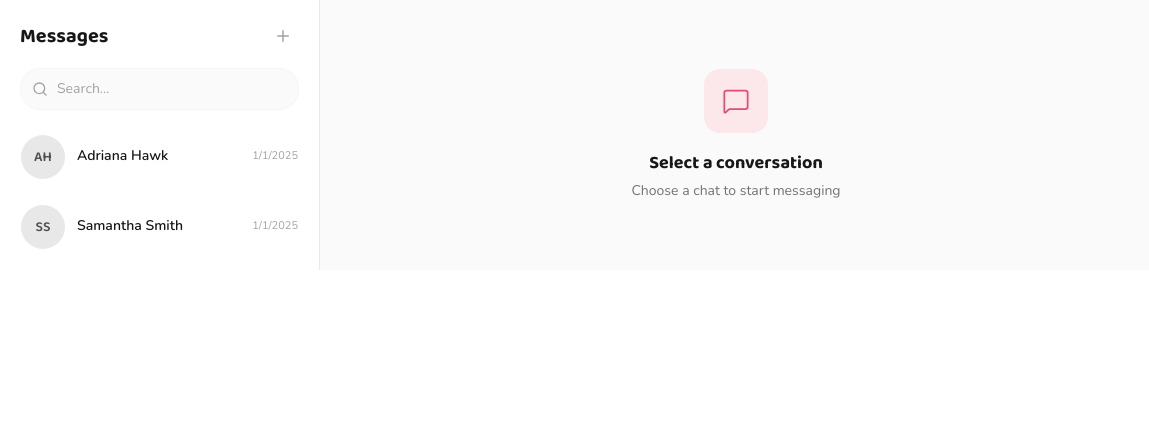
it: Chat › selects a conversation and shows details panel
Click the text "Adriana Hawk" at (123,156), box [77, 146, 168, 166]
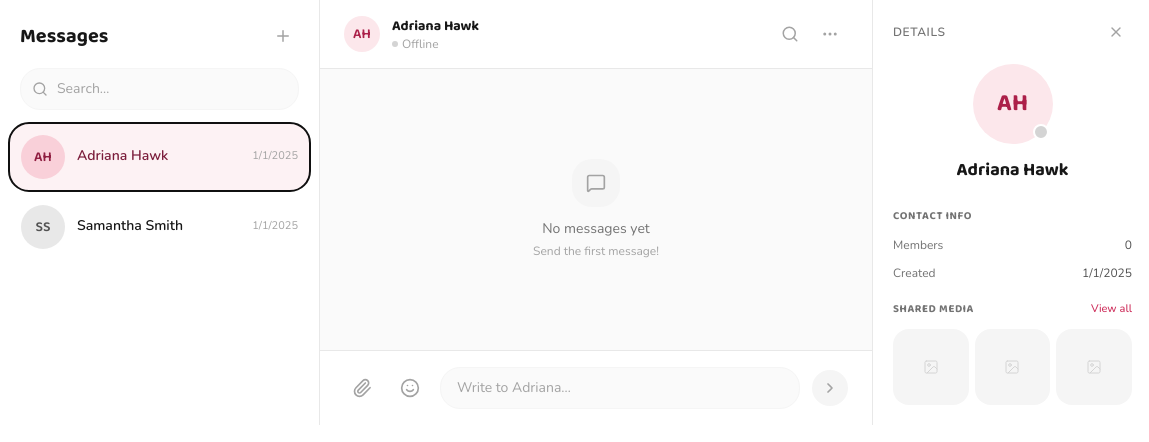
Result: the text "Details" is shown at [893, 24, 946, 40]
